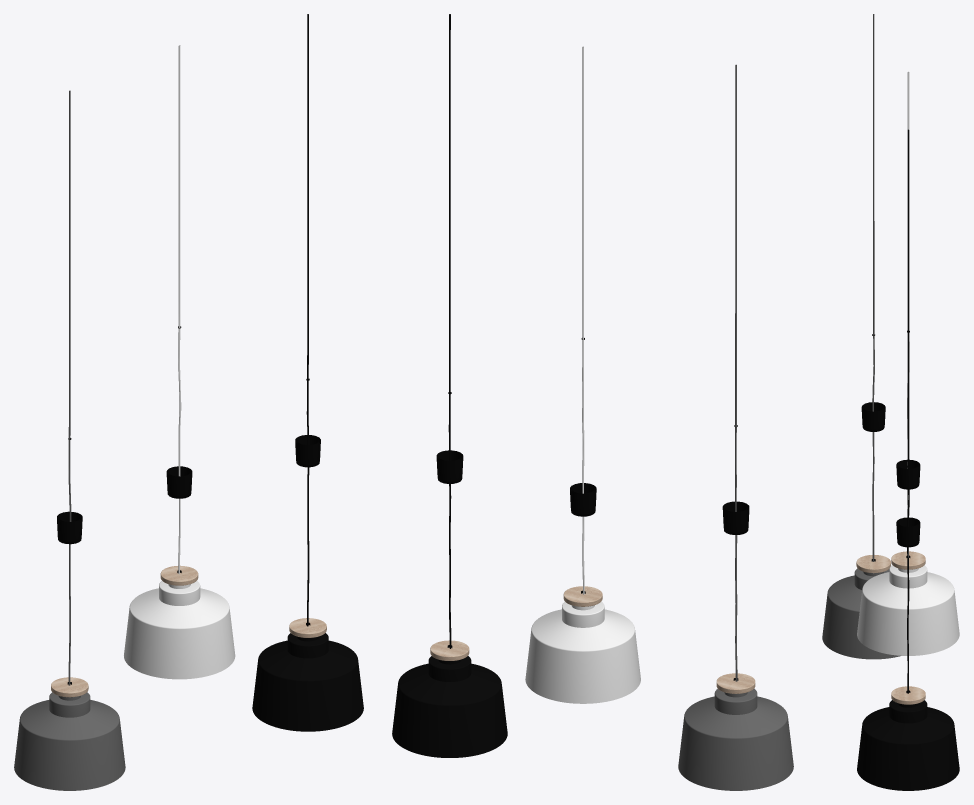
The model's file is lamp.obj.
3 renders of one model, left to right at view 1: azimuth 30°, elevation 25°; view 2: azimuth 150°, elevation 25°; view 3: azimuth 270°, elevation 25°, orthographic. The views are drawn at different scales.
Visible parts, largest first — view 1: Line1789530711_Mesh, Line1789530713_Mesh.007, Line1789530715_Mesh.014, Object24394_Mesh.011, Object24397_Mesh.018, Object24391_Mesh.004, Circle101_Mesh.013, Circle100_Mesh.006, Circle102_Mesh.020, Cylinder23349_Mesh.015, Cylinder23348_Mesh.008, Cylinder23347_Mesh.001; view 2: Line1789530713_Mesh.007, Line1789530715_Mesh.014, Line1789530711_Mesh, Object24391_Mesh.004, Object24397_Mesh.018, Object24394_Mesh.011, Circle100_Mesh.006, Circle101_Mesh.013, Circle102_Mesh.020; view 3: Line1789530711_Mesh, Line1789530713_Mesh.007, Line1789530715_Mesh.014, Object24391_Mesh.004, Object24397_Mesh.018, Circle100_Mesh.006, Circle102_Mesh.020, Circle101_Mesh.013, Cylinder23347_Mesh.001, Cylinder23349_Mesh.015, Cylinder23348_Mesh.008, Object24394_Mesh.011.
Part boxes in pixels (x1,y1,x2,y2): Line1789530711_Mesh: (252, 633, 363, 731); Line1789530713_Mesh.007: (124, 581, 235, 679); Line1789530715_Mesh.014: (14, 692, 125, 790); Object24394_Mesh.011: (178, 45, 181, 574); Object24397_Mesh.018: (68, 90, 71, 685); Object24391_Mesh.004: (306, 14, 309, 626); Circle101_Mesh.013: (166, 466, 192, 498); Circle100_Mesh.006: (295, 435, 320, 467); Circle102_Mesh.020: (57, 511, 82, 544); Cylinder23349_Mesh.015: (51, 677, 88, 697); Cylinder23348_Mesh.008: (160, 565, 198, 585); Cylinder23347_Mesh.001: (289, 618, 326, 637); Line1789530713_Mesh.007: (525, 601, 640, 703); Line1789530715_Mesh.014: (678, 688, 793, 790); Line1789530711_Mesh: (392, 656, 507, 757); Object24391_Mesh.004: (448, 14, 451, 648); Object24397_Mesh.018: (735, 64, 737, 681); Object24394_Mesh.011: (582, 46, 584, 594); Circle100_Mesh.006: (436, 450, 463, 483); Circle101_Mesh.013: (570, 483, 596, 516); Circle102_Mesh.020: (722, 501, 749, 534); Line1789530711_Mesh: (857, 700, 959, 790); Line1789530713_Mesh.007: (857, 565, 959, 655); Line1789530715_Mesh.014: (822, 568, 900, 659); Object24391_Mesh.004: (907, 129, 909, 693); Object24397_Mesh.018: (872, 14, 874, 561); Circle100_Mesh.006: (896, 517, 920, 547); Circle102_Mesh.020: (861, 402, 885, 431); Circle101_Mesh.013: (896, 459, 920, 489); Cylinder23347_Mesh.001: (891, 686, 925, 704); Cylinder23349_Mesh.015: (856, 555, 890, 573); Cylinder23348_Mesh.008: (891, 551, 925, 569); Object24394_Mesh.011: (907, 71, 909, 557).
Bounding box in the file's own units: 1.11 × 2.08 × 0.4054.
Materials: 8 (1 with a texture image).
